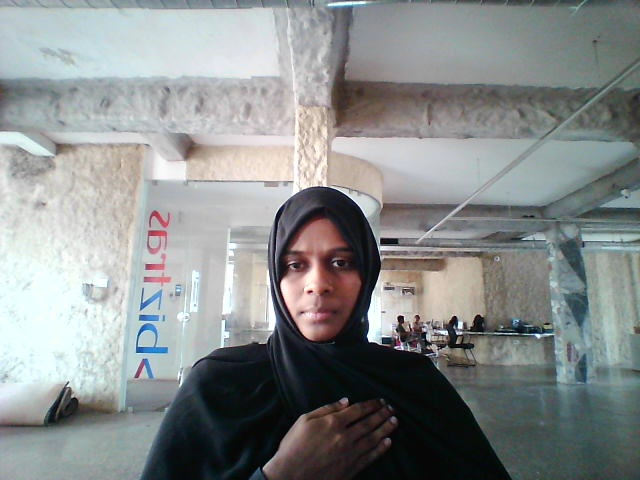PLEASE: (239, 370, 427, 478)
